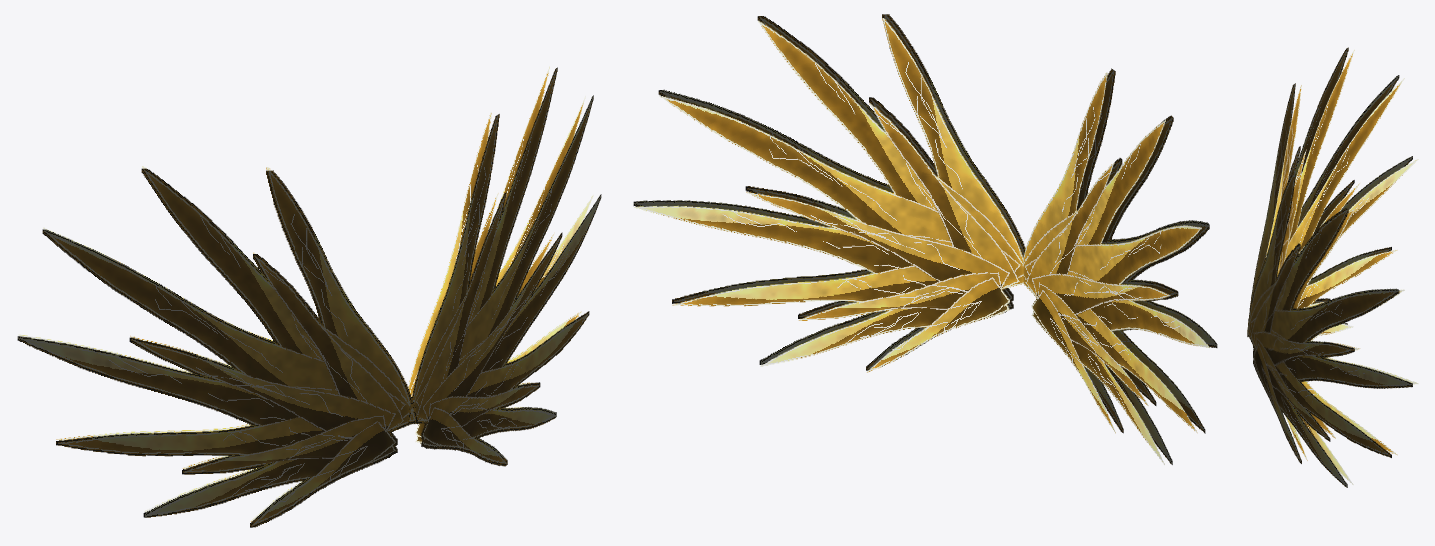
File: gold_crystal_wings.glb
3 renders of one model, left to right at view 1: azimuth 30°, elevation 25°; view 2: azimuth 150°, elevation 25°; view 3: azimuth 270°, elevation 25°, orthographic. The views are drawn at different scales.
Visible parts, largest first — view 1: Gold Crystal Wings Wing Right, Gold Crystal Wings Wing Left; view 2: Gold Crystal Wings Wing Left, Gold Crystal Wings Wing Right; view 3: Gold Crystal Wings Wing Left, Gold Crystal Wings Wing Right.
Part boxes in pixels (bbox=[...]): Gold Crystal Wings Wing Right: bbox=[17, 166, 417, 527]; Gold Crystal Wings Wing Left: bbox=[408, 66, 601, 466]; Gold Crystal Wings Wing Left: bbox=[633, 14, 1025, 372]; Gold Crystal Wings Wing Right: bbox=[1023, 68, 1217, 464]; Gold Crystal Wings Wing Left: bbox=[1247, 172, 1418, 487]; Gold Crystal Wings Wing Right: bbox=[1247, 47, 1418, 352].
Bounding box in the file's own units: 1.82 × 1.07 × 0.5883.
2 materials, 2 textured.
